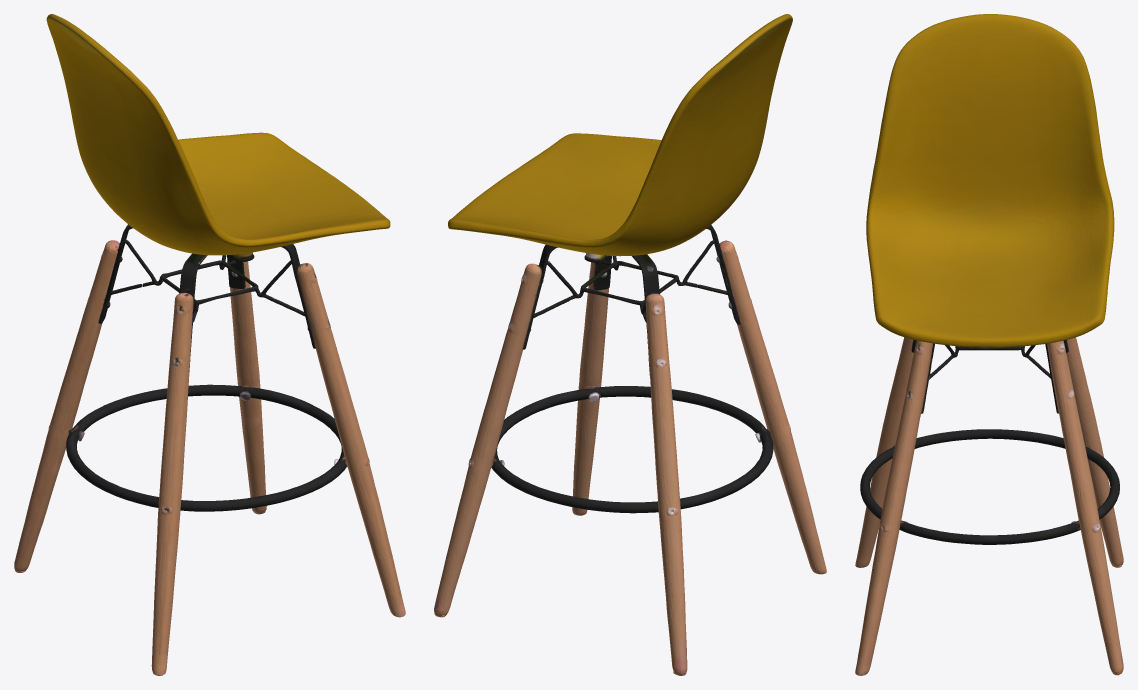
The model's file is ND-0864__Elon-northdeco_19.glb.
The picture shows the model from 3 angles, left to right: view 1: azimuth 30°, elevation 25°; view 2: azimuth 150°, elevation 25°; view 3: azimuth 270°, elevation 25°; orthographic projection. The views are drawn at different scales.
Size of the model in its own units: 0.9665 by 2 by 0.8895.
1 material, 1 textured.
